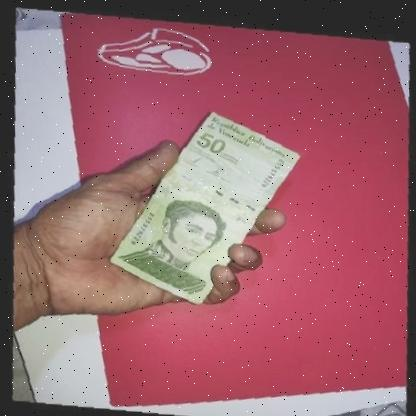fifty-front-vef: (100, 99, 307, 312)
